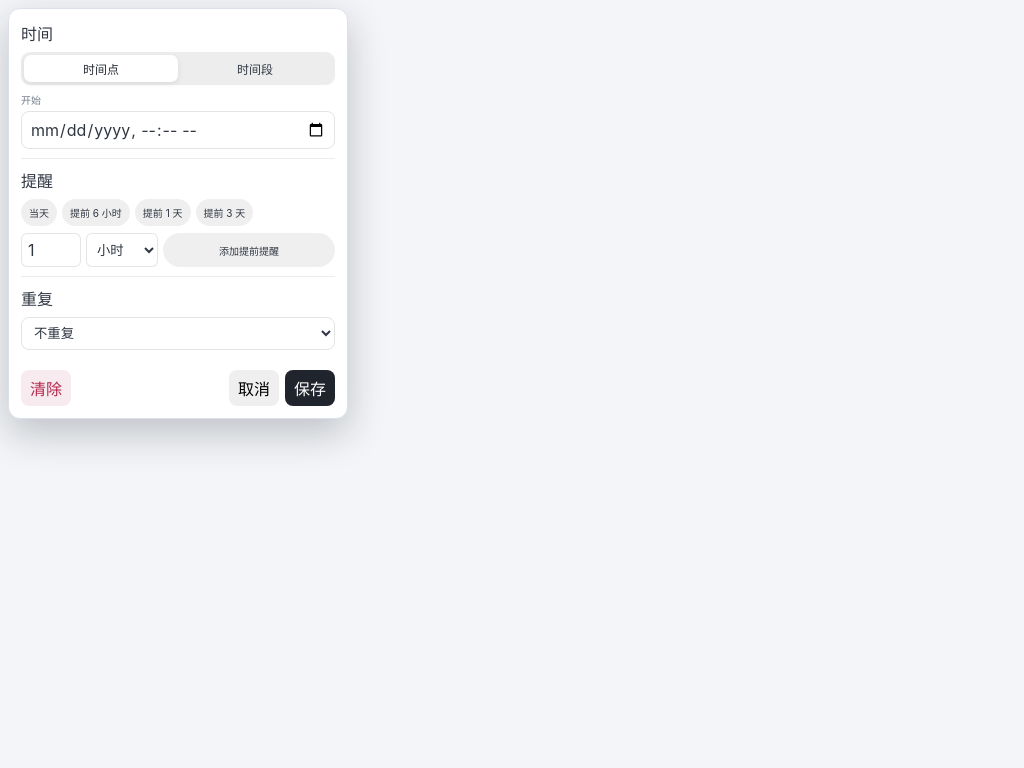
TaskSchedulePopover › rejects a range whose end is not after its start
Click the button "时间段".
click(255, 68)  # box 178,55 -> 332,82
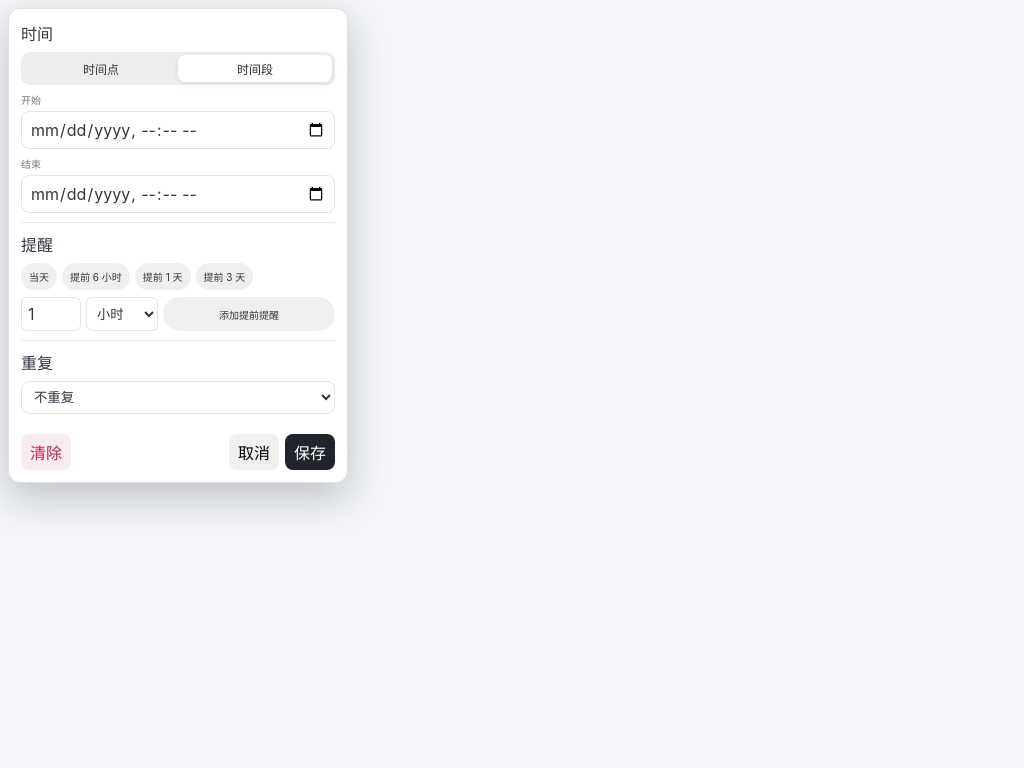
Type "2026-06-20T18:00" into the field named "开始时间".
click(178, 130); type("2026-06-20T18:00")  # box 21,111 -> 335,149
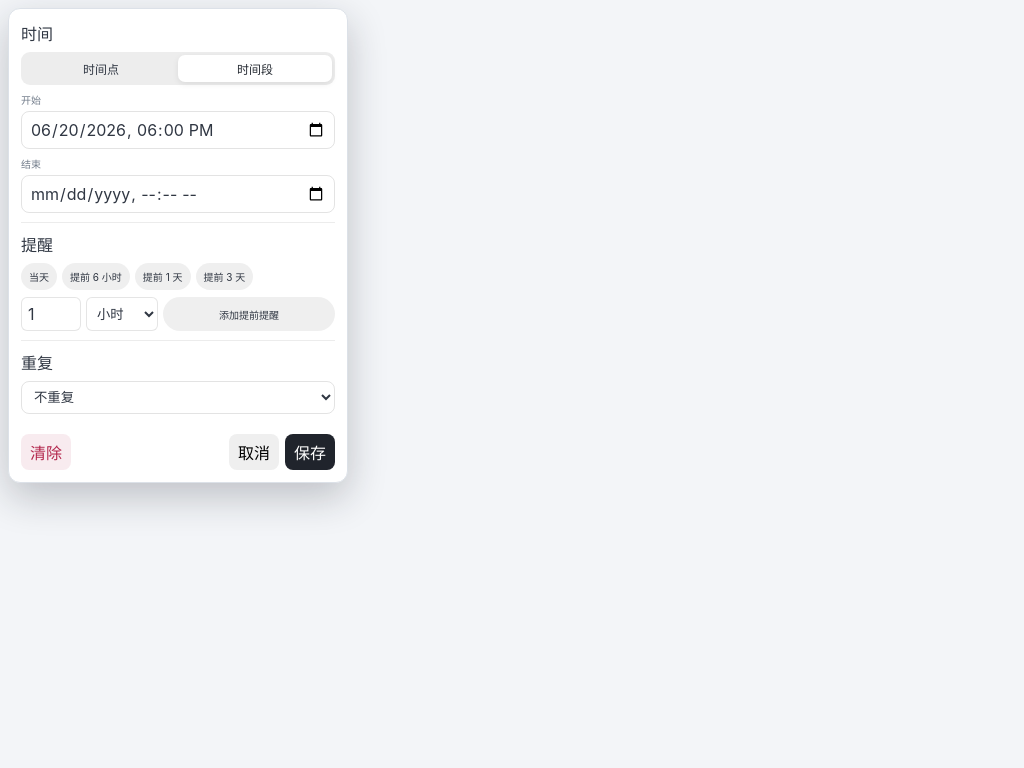
Type "2026-06-20T09:00" into the field named "结束时间".
click(178, 194); type("2026-06-20T09:00")  # box 21,175 -> 335,213
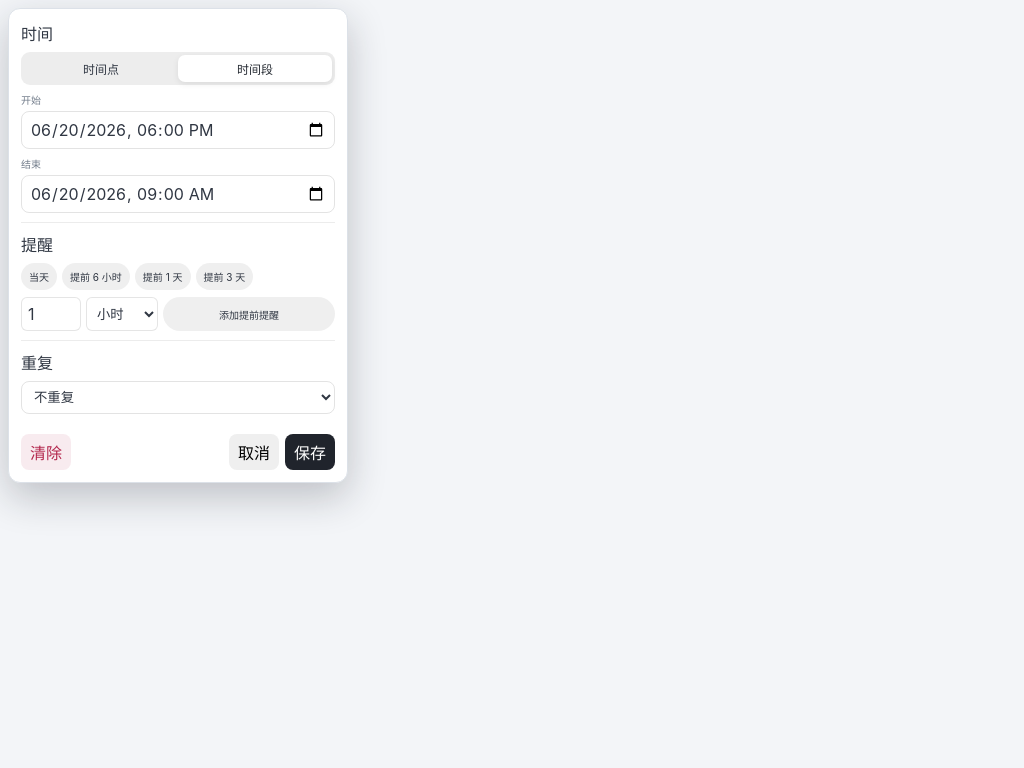
Click the button "保存".
click(310, 452)  # box 285,434 -> 335,470
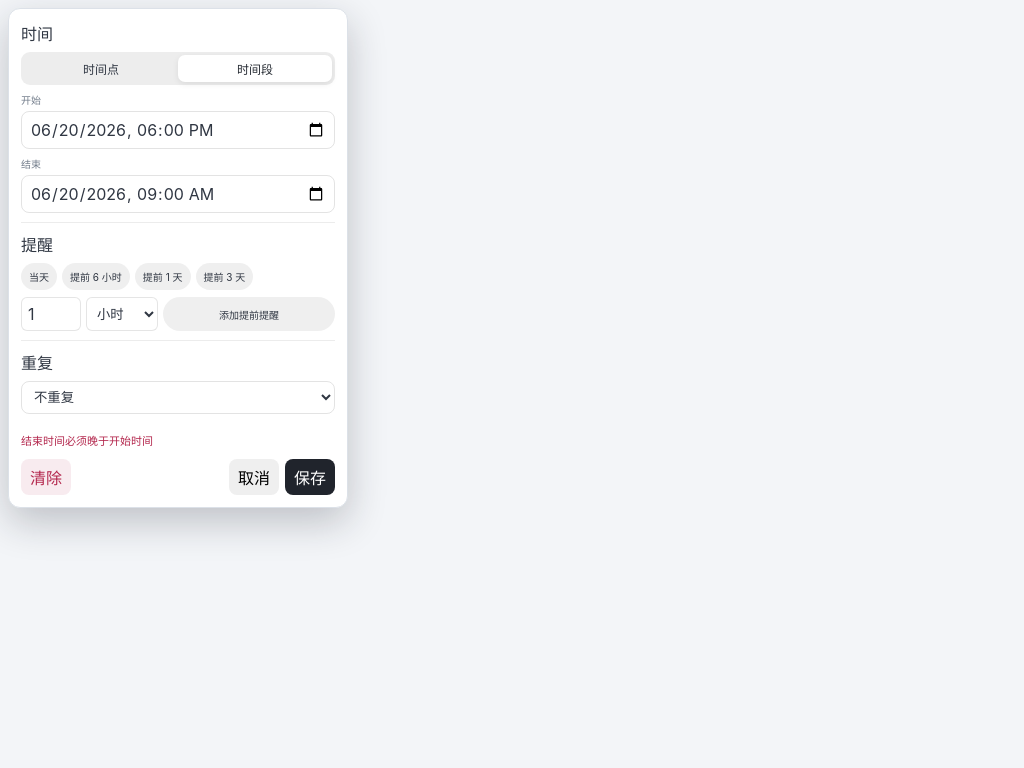
Check: the text "结束时间必须晚于开始时间" is shown, box 21,434 -> 153,448
